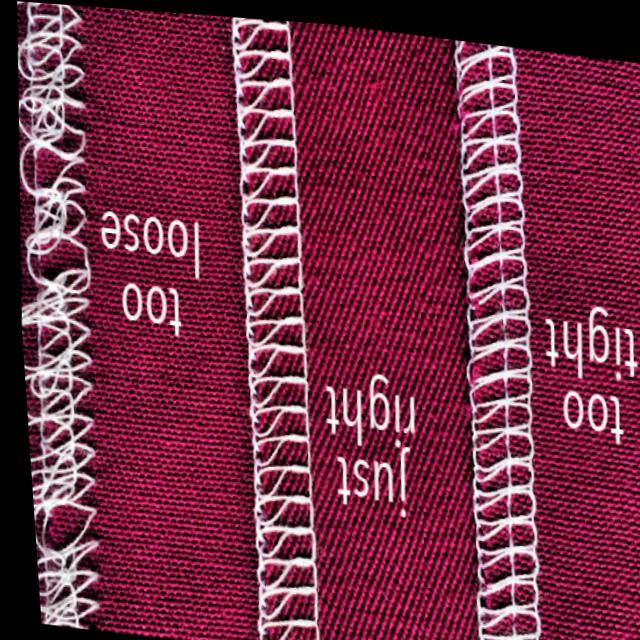Stitch: (1, 14, 133, 607)
